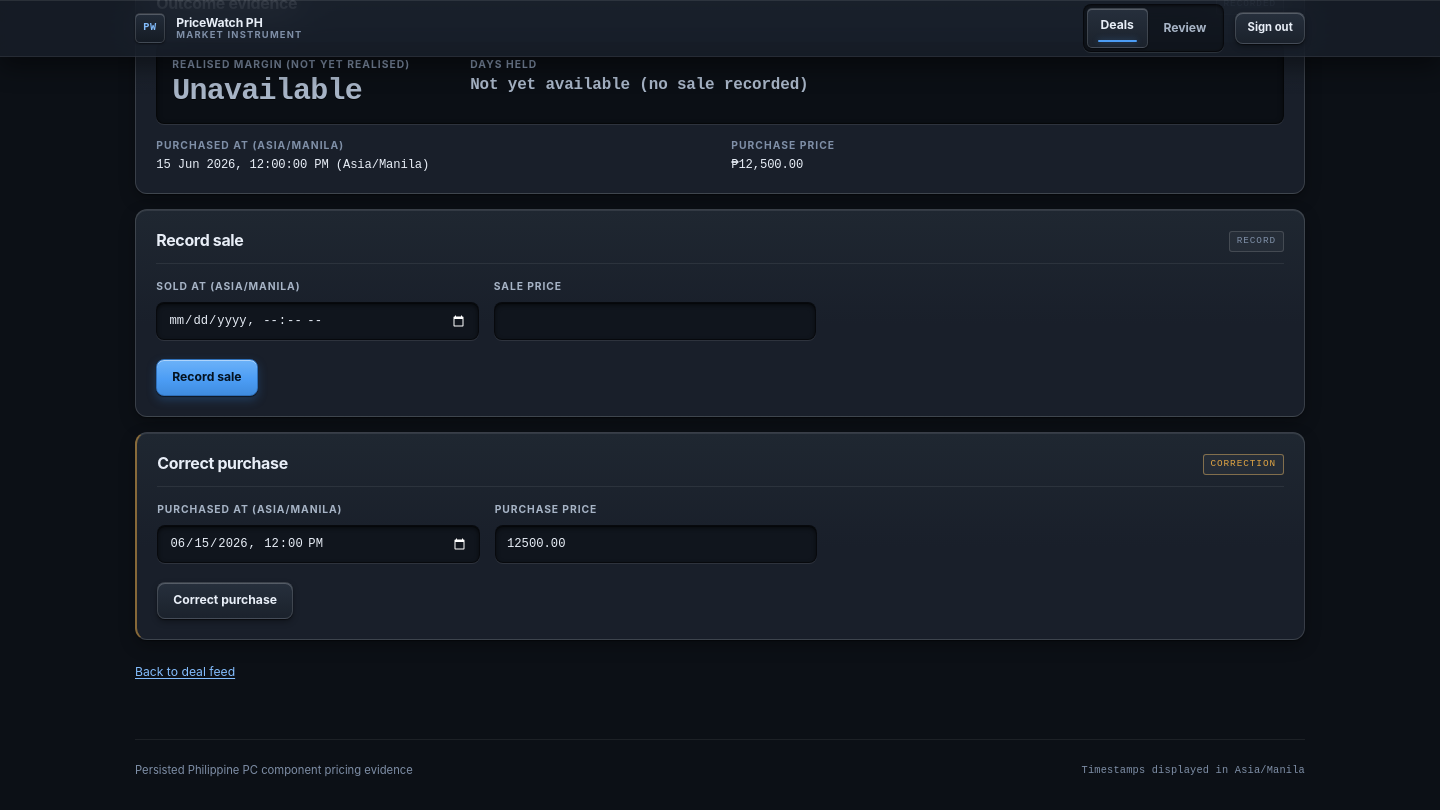
Test: TASK_029 lifecycle transitions › corrects the purchase from open, pre-filled with the current evidence
This screenshot has width=1440, height=810.
(page scrolled)
Check: the field labelled "Purchase price" holds "12500.00", box [495,525,817,563]
Replace the text in the field labelled "Purchased at (Asia/Manila)" with "2026-06-14T12:00". click: (319, 544)
box: [157,525,480,563]
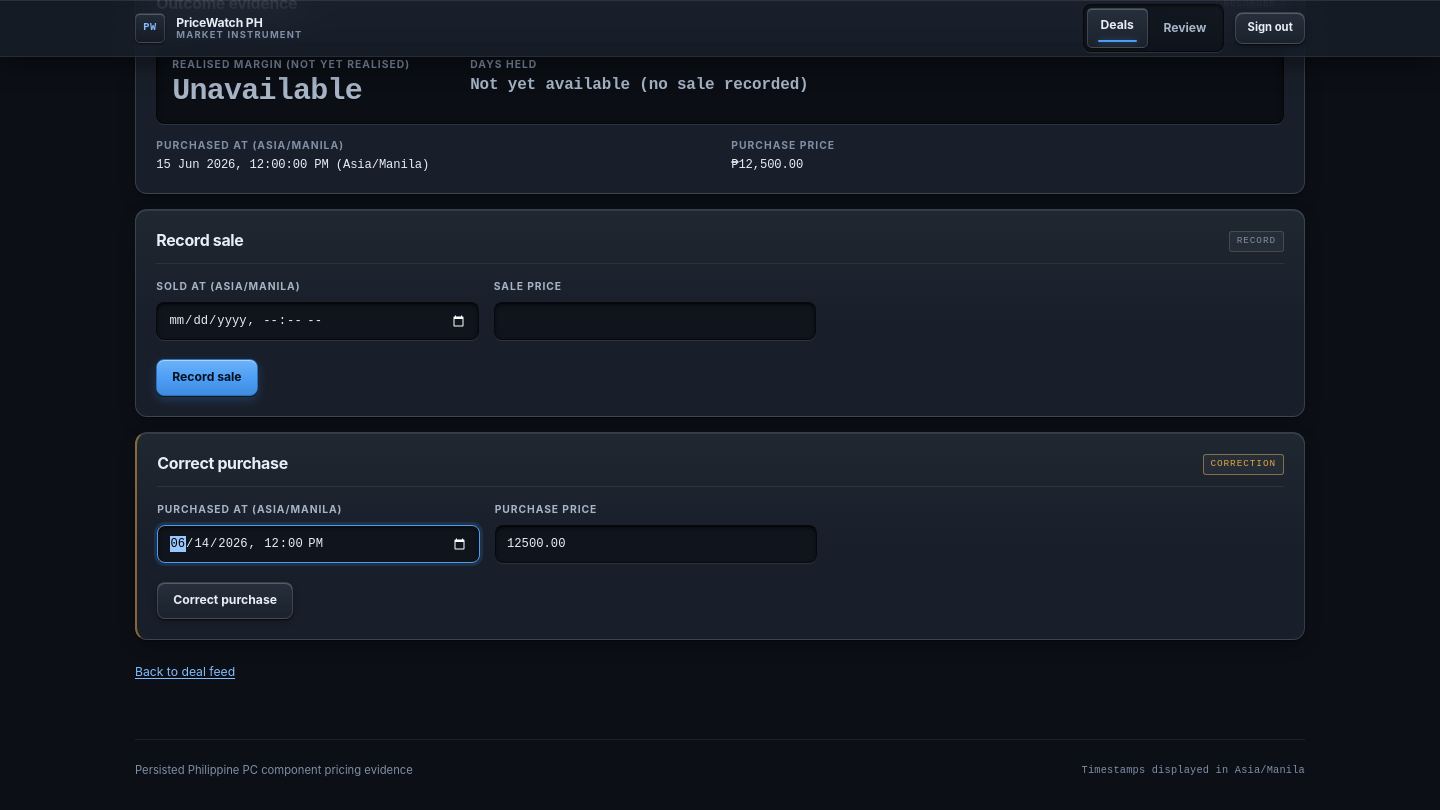
Replace the text in the field labelled "Purchase price" with "11000.00". click: (656, 544)
box: [495,525,817,563]
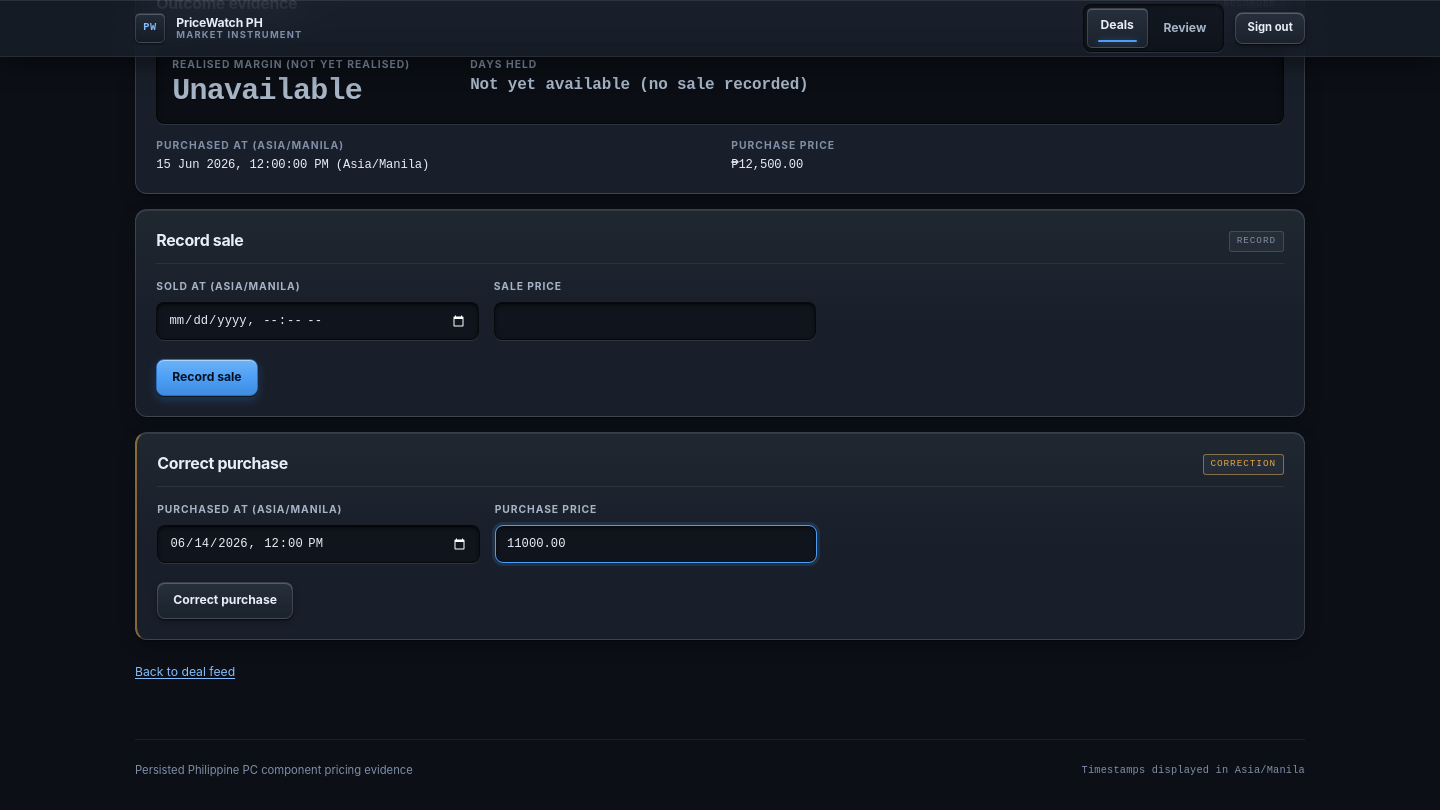
Click the button "Correct purchase". click: (225, 600)
box: [157,582,293,619]
(page scrolled)
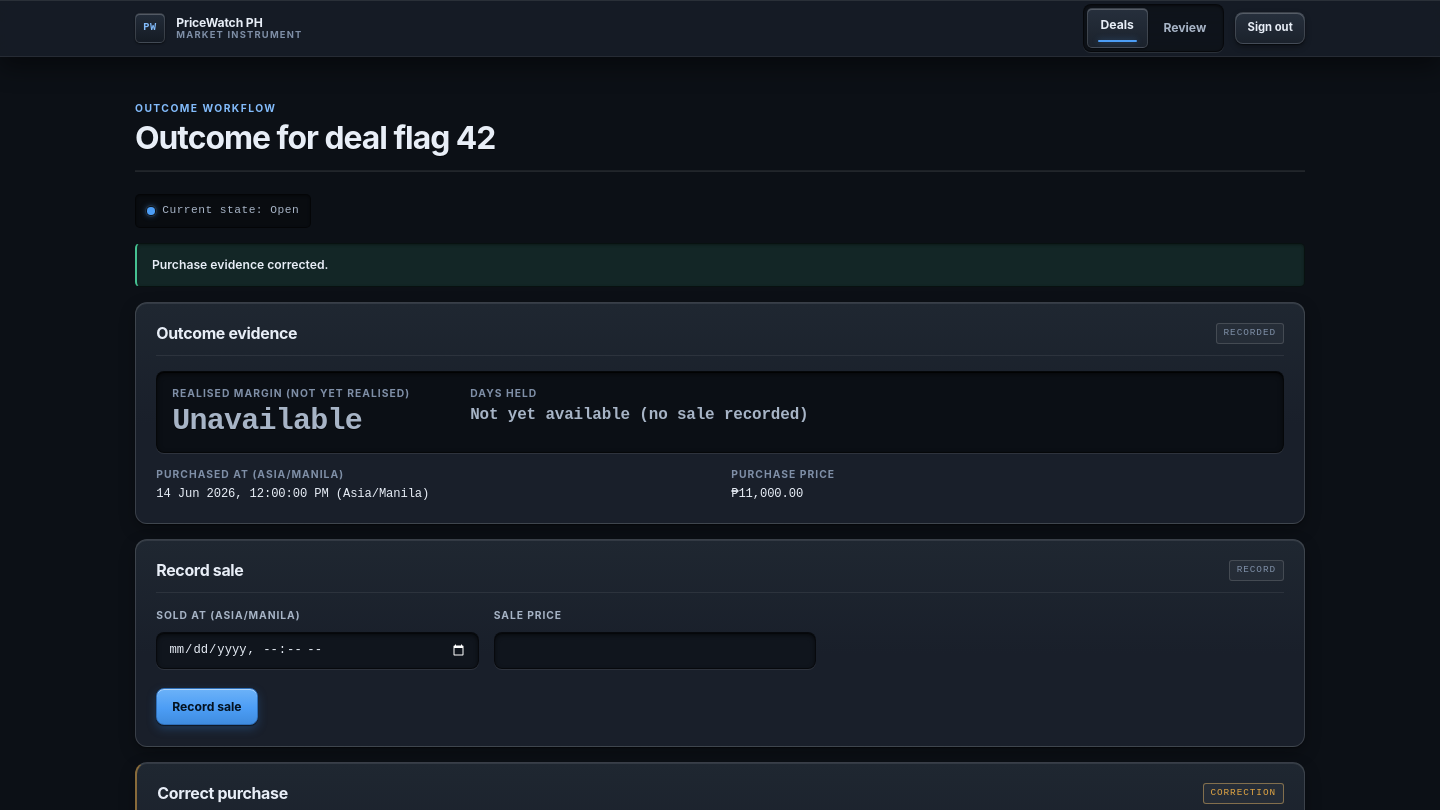
Check: the text "Purchase evidence corrected." is shown, box [135,243,1305,287]
